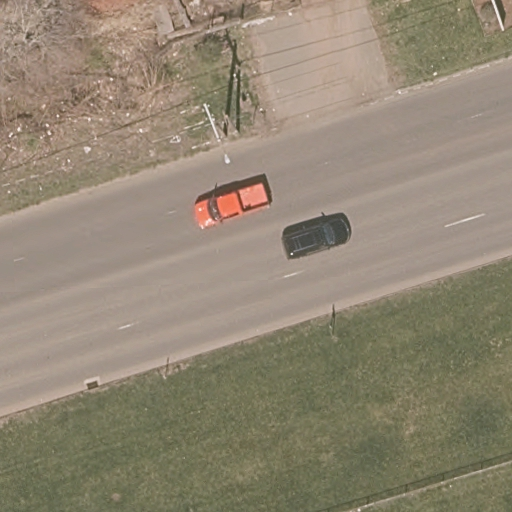DT: (200, 101, 223, 141)
